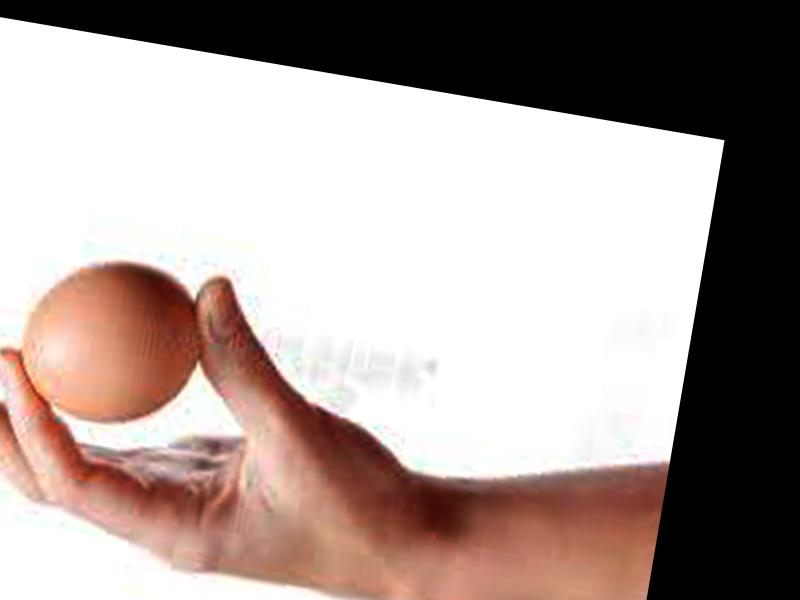Eggs: (13, 249, 214, 434)
